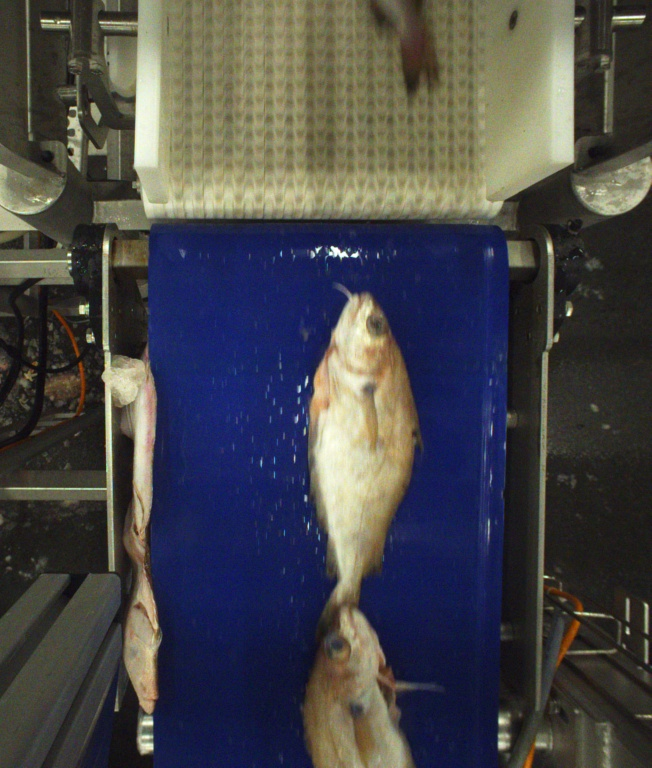BIB: (310, 282, 420, 642)
